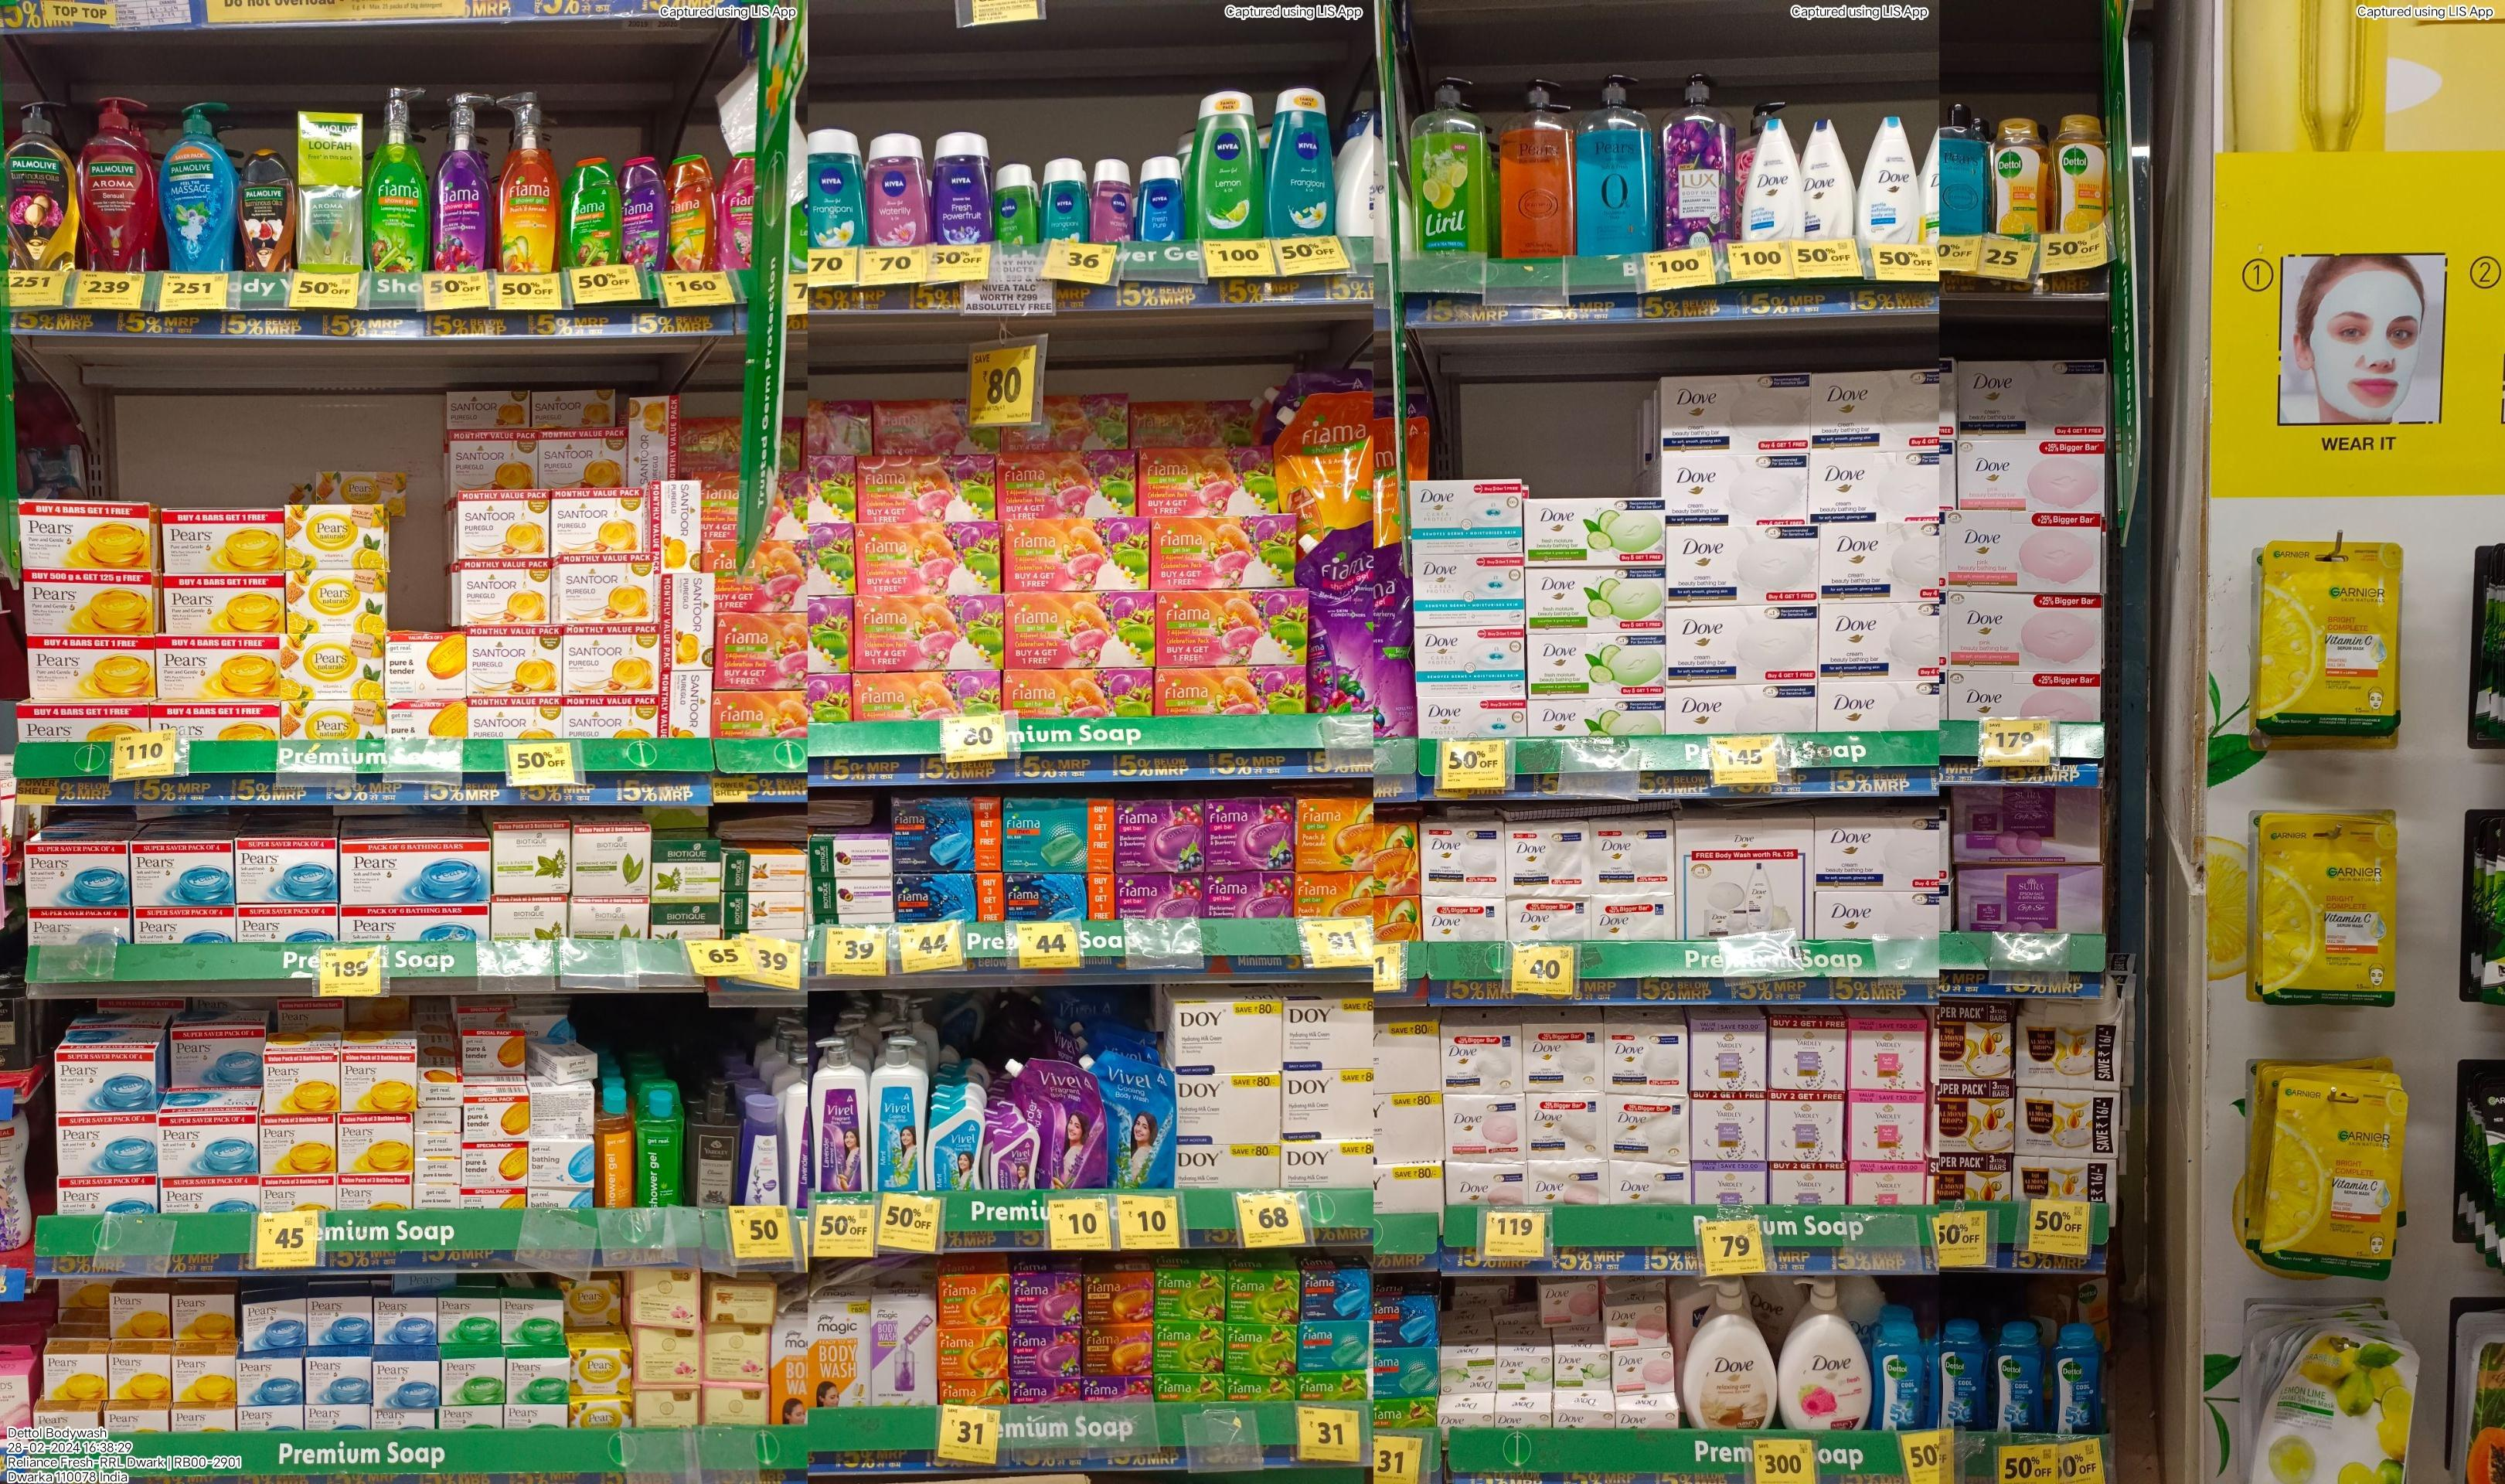Dettol_Bodywash_Refresh: (2049, 115, 2109, 233), (1991, 118, 2049, 231)
Dove_Deep_Moisture_Body_Wash_250ML: (1800, 117, 1855, 244)
Dove_Gentle_Exfoliating_Body_Wash_250ML: (1858, 115, 1920, 251), (1747, 120, 1798, 244)
Fiama_Shower_Gel_Lemongrass_and_Jojoba_250ML: (562, 155, 620, 267)
Nivea_Shower_Gel_Frangipani_and_Oil_250ML: (1272, 88, 1336, 240), (806, 127, 866, 251)
Nivea_Shower_Gel_Fresh_Powerfruit_250ML: (933, 131, 991, 242)
Nivea_Shower_Gel_Lemon_and_Oil_250ML: (1191, 88, 1260, 242)
Nivea_Shower_Gel_Waterlily_and_Oil_250ML: (867, 132, 927, 247)
Palmolive_Luminous_Oils_With_White_Orchid_Shower_Gel_250ML: (240, 148, 295, 274)
Pears_Pure_Glycerin_and_Mint_Extracts_Body_Wash_250ML: (1940, 97, 1986, 238)
